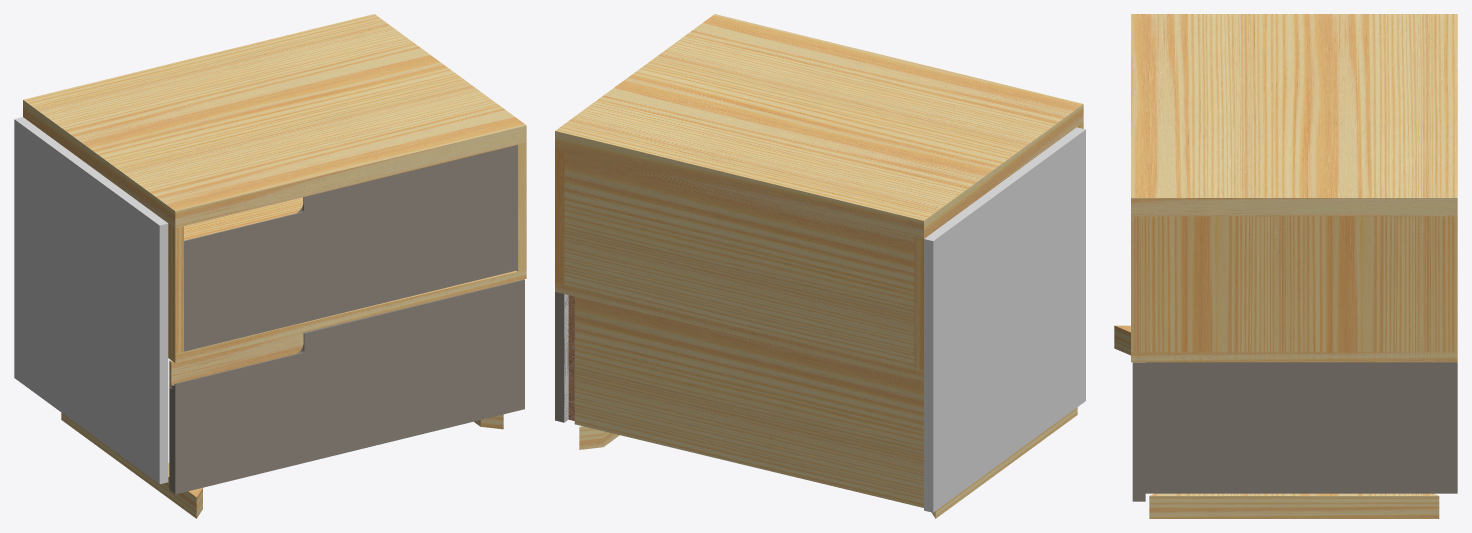
The model's file is shelf.dae.
3 renders of one model, left to right at view 1: azimuth 30°, elevation 25°; view 2: azimuth 150°, elevation 25°; view 3: azimuth 270°, elevation 25°, orthographic. The views are drawn at different scales.
Visible parts, largest first — view 1: Group_14 (×2), Group_2, Group_8, Group_5 (×2), Group_13, Group_3, Group_22, Group_4; view 2: Group_6 (×2), Group_2, Group_8, Group_5, Group_7 (×2), Group_22 (×2), Group_3, Group_4, SketchUp; view 3: Group_2, Group_4, Group_7, Group_22 (×2), Group_5, Group_14.
Part boxes in pixels (<box>): Group_14 (×2): <box>169,145,524,494</box>; Group_2: <box>23,14,526,228</box>; Group_8: <box>14,117,168,484</box>; Group_5 (×2): <box>168,197,526,362</box>; Group_13: <box>169,332,303,388</box>; Group_3: <box>168,223,183,353</box>; Group_22: <box>61,412,202,518</box>; Group_4: <box>517,142,526,271</box>; Group_6 (×2): <box>564,151,923,507</box>; Group_2: <box>555,14,1083,238</box>; Group_8: <box>924,127,1085,512</box>; Group_5: <box>555,282,923,380</box>; Group_7 (×2): <box>555,292,568,422</box>; Group_22 (×2): <box>579,407,1077,518</box>; Group_3: <box>914,122,1083,370</box>; Group_4: <box>555,149,564,284</box>; SketchUp: <box>568,295,574,420</box>; Group_2: <box>1131,14,1457,216</box>; Group_4: <box>1131,216,1457,352</box>; Group_7: <box>1145,362,1457,493</box>; Group_22 (×2): <box>1114,325,1439,518</box>; Group_5: <box>1131,352,1457,362</box>; Group_14: <box>1132,362,1145,501</box>.
Bounding box in the file's own units: 24.21 × 18.62 × 19.69.
Materials: 7 (5 with a texture image).
